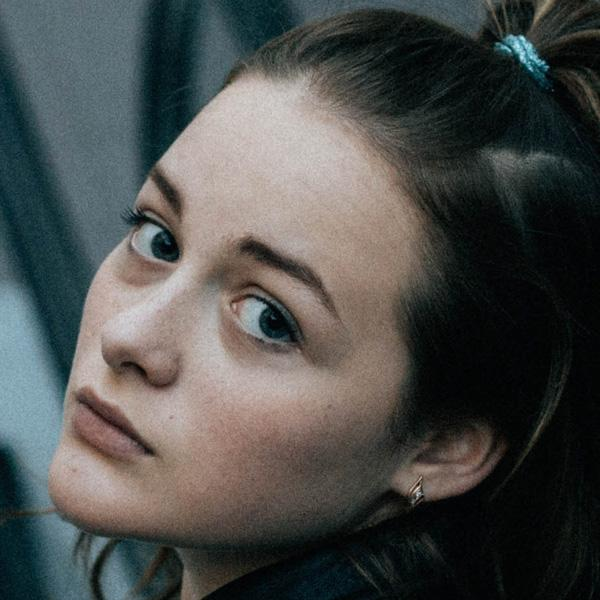Eyes: (213, 274, 312, 366), (118, 205, 187, 272)
